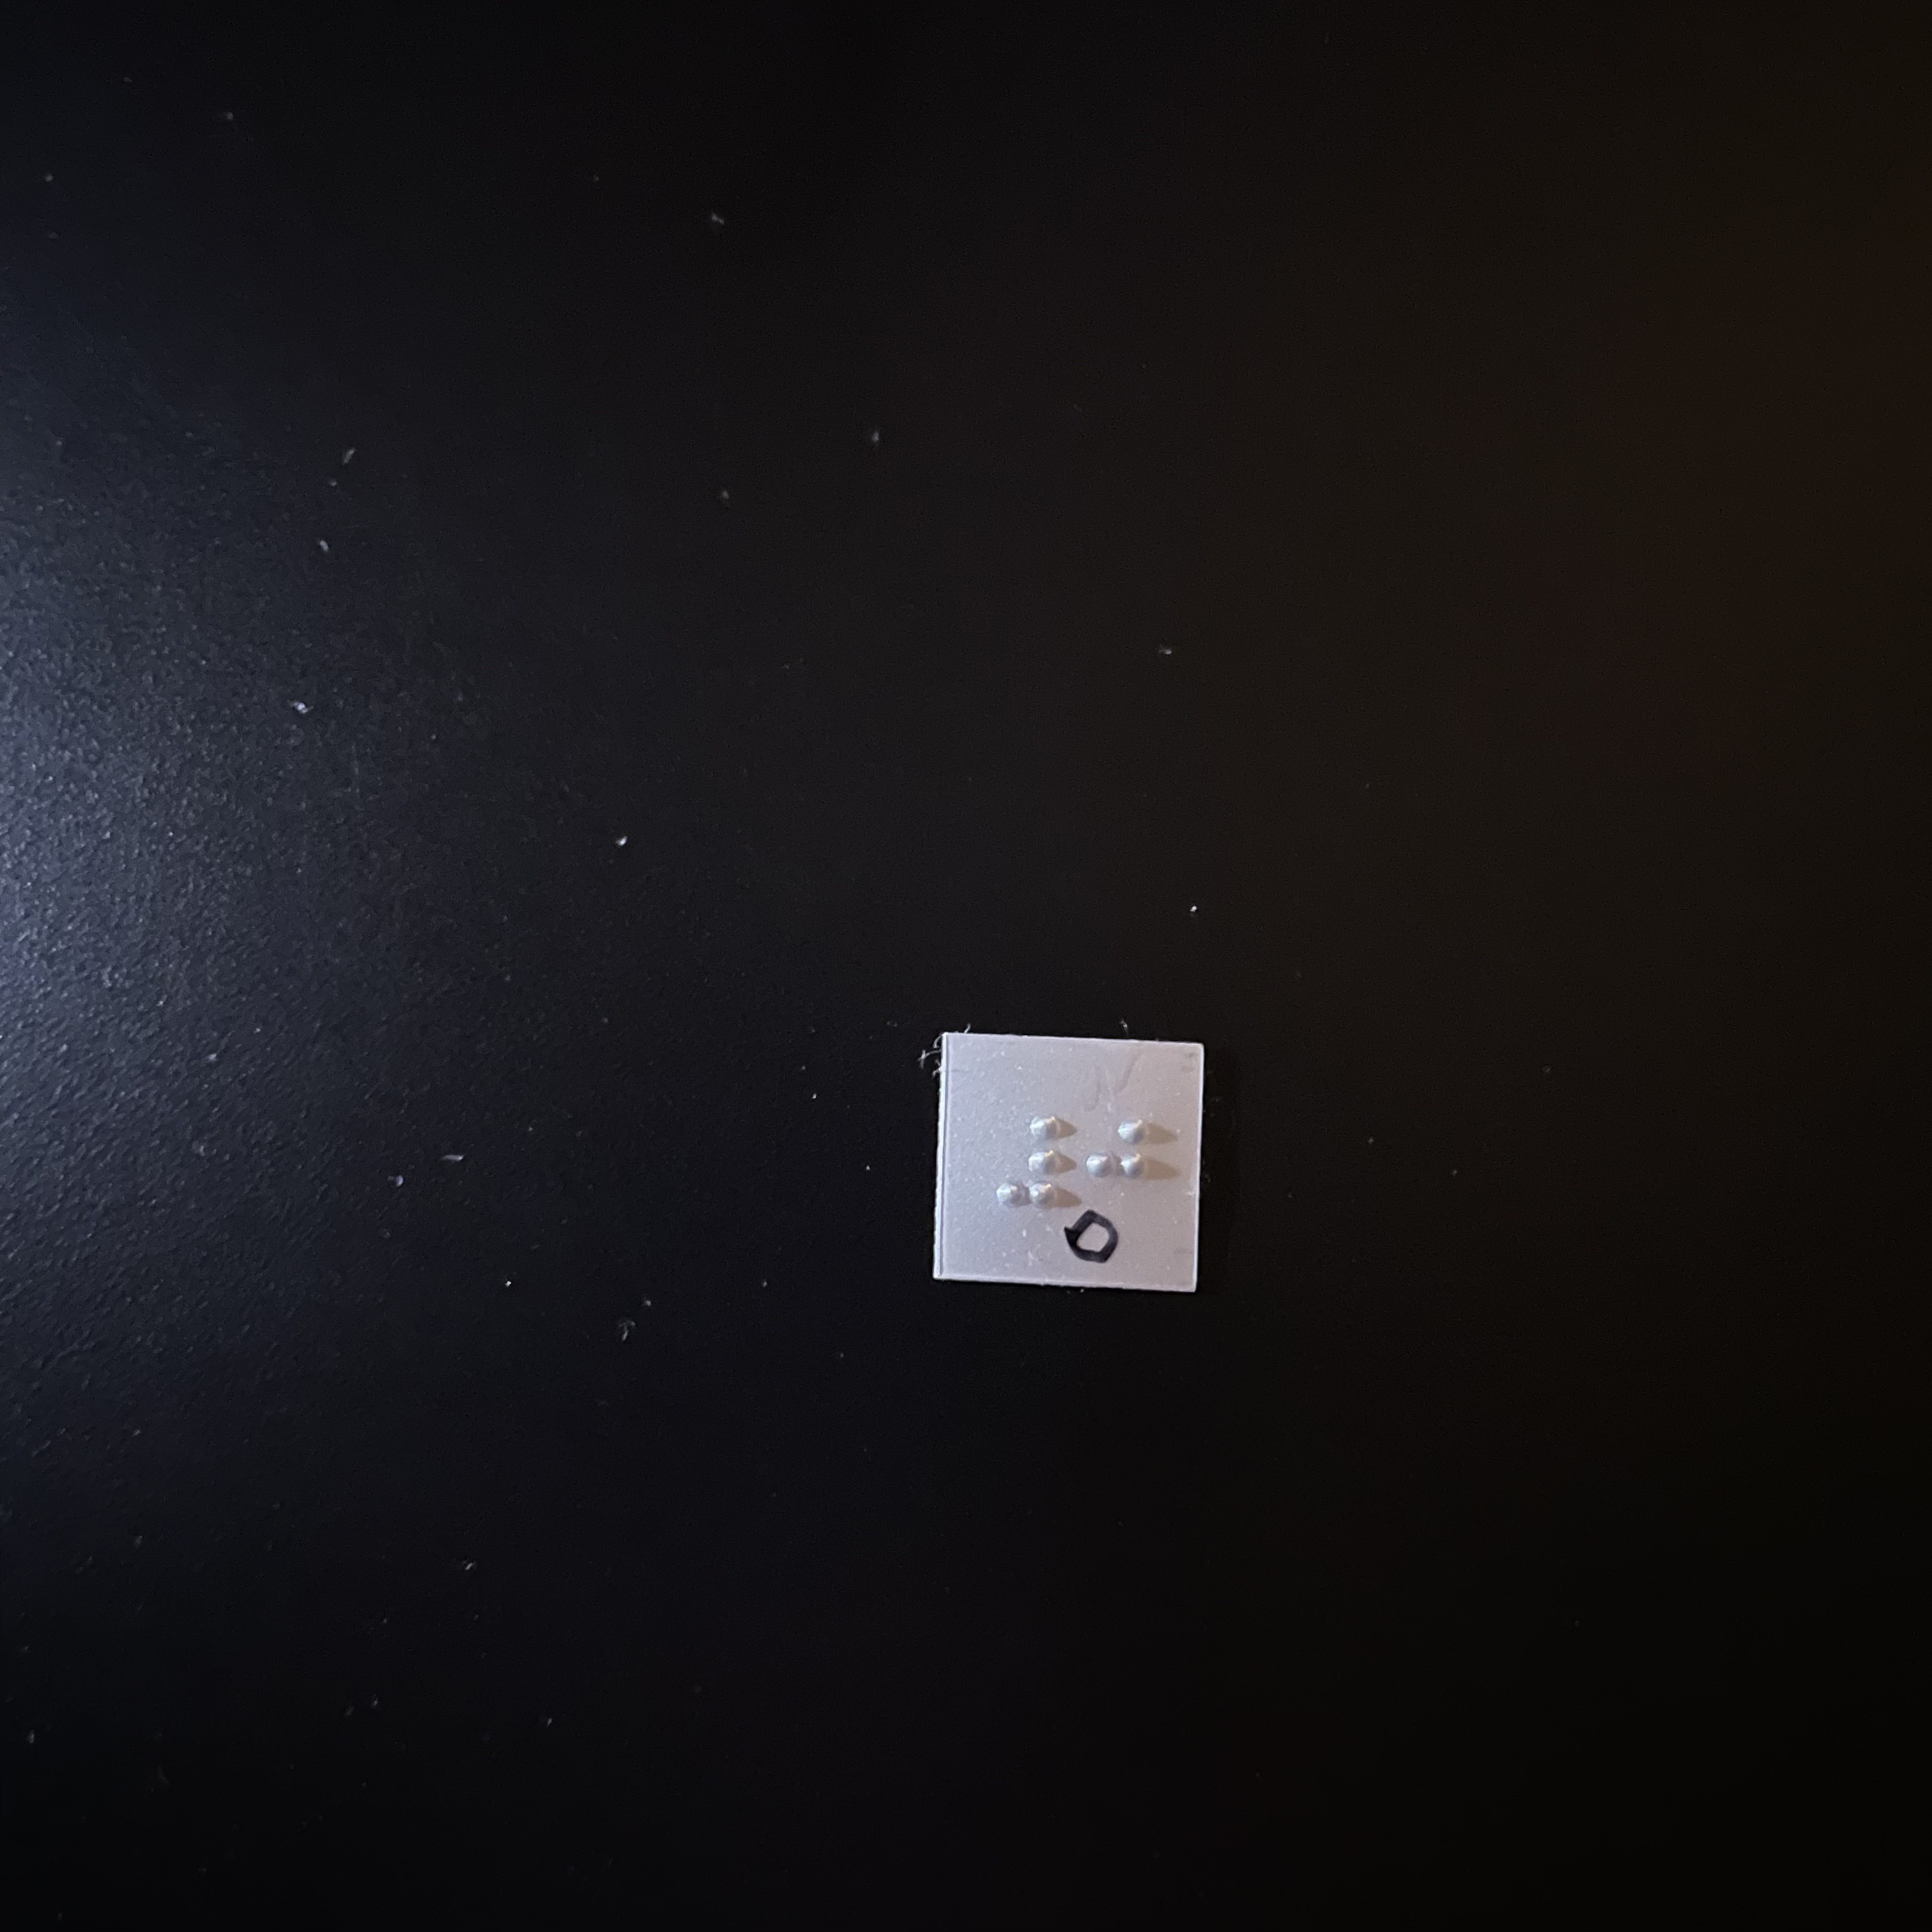#: (994, 1108, 1080, 1227)
j: (1082, 1108, 1168, 1225)
